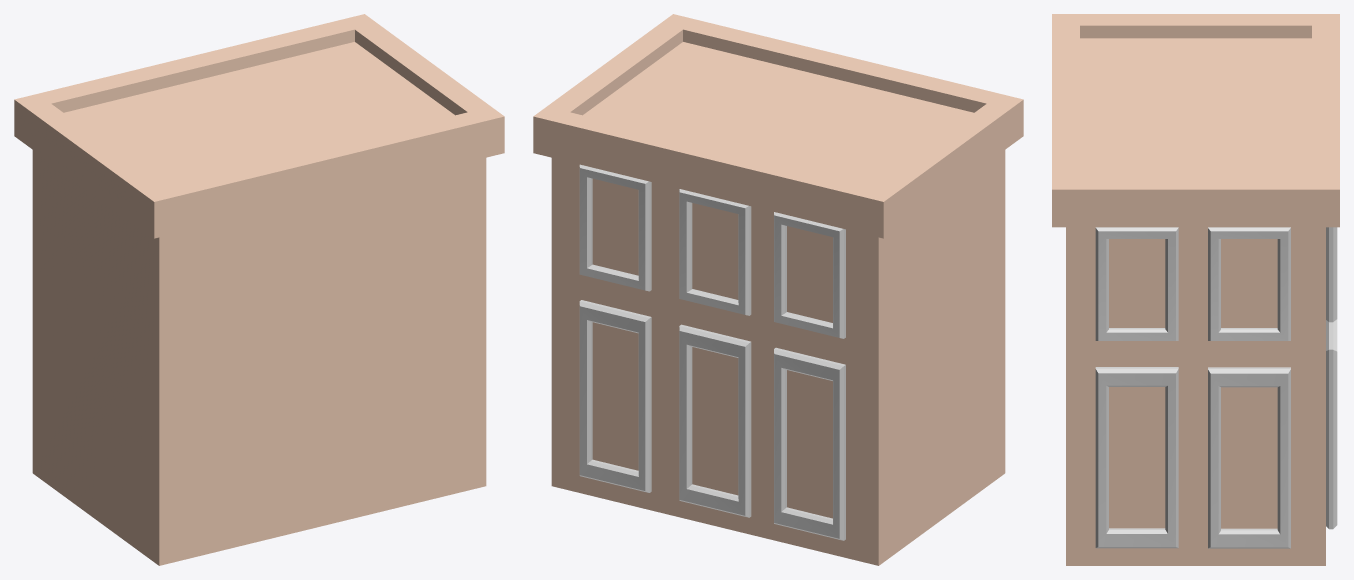
File: apt5.FBX
The picture shows the model from 3 angles, left to right: view 1: azimuth 30°, elevation 25°; view 2: azimuth 150°, elevation 25°; view 3: azimuth 270°, elevation 25°; orthographic projection. The views are drawn at different scales.
Visible parts, largest first — view 1: Box023; view 2: Box023, Rectangle027, Rectangle024, Rectangle029, Rectangle026, Rectangle025, Rectangle028; view 3: Box023, Rectangle019, Rectangle023, Rectangle022, Rectangle021, Rectangle024, Rectangle026.
Part boxes in pixels (x1=…): Box023: x1=14, y1=14, x2=504, y2=565; Box023: x1=533, y1=14, x2=1023, y2=565; Rectangle027: x1=679, y1=324, x2=751, y2=517; Rectangle024: x1=579, y1=300, x2=651, y2=492; Rectangle029: x1=774, y1=347, x2=845, y2=540; Rectangle026: x1=579, y1=164, x2=651, y2=291; Rectangle025: x1=679, y1=189, x2=751, y2=315; Rectangle028: x1=774, y1=212, x2=845, y2=338; Box023: x1=1052, y1=14, x2=1339, y2=565; Rectangle019: x1=1095, y1=367, x2=1178, y2=548; Rectangle023: x1=1208, y1=367, x2=1290, y2=548; Rectangle022: x1=1095, y1=227, x2=1178, y2=340; Rectangle021: x1=1208, y1=227, x2=1290, y2=340; Rectangle024: x1=1326, y1=319, x2=1337, y2=529; Rectangle026: x1=1326, y1=227, x2=1337, y2=322.
Bounding box in the file's own units: 118 × 120 × 81.72.
